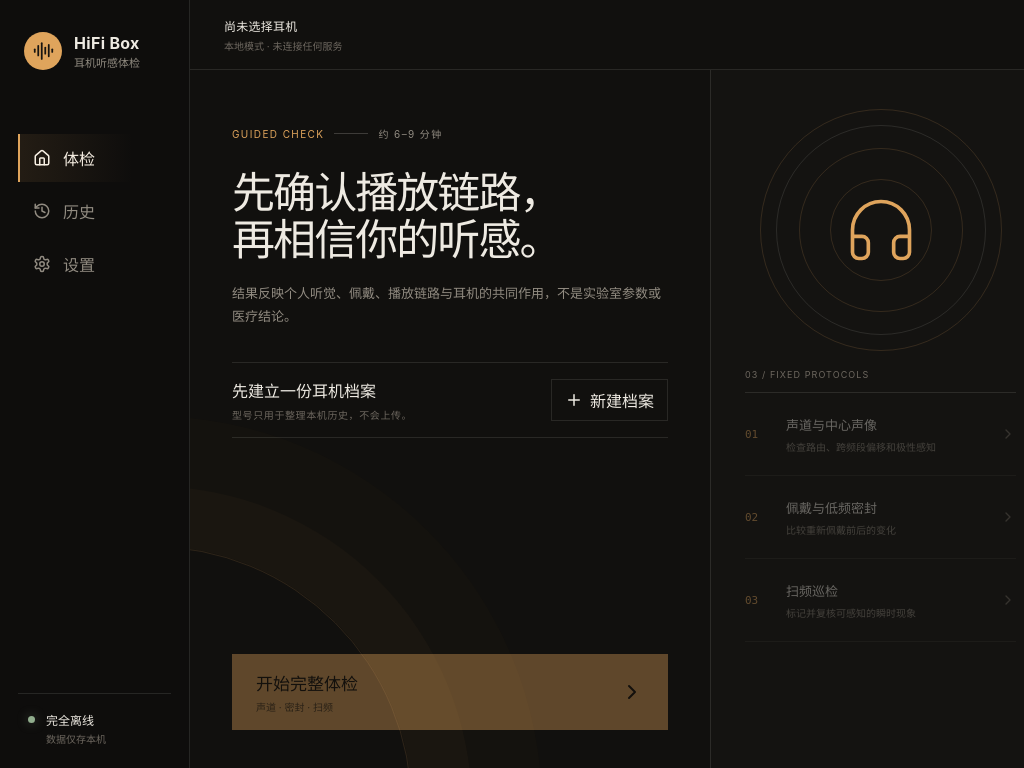
HiFi Box desktop flow › documents the no-network and no-measurement limits
What coordinates should you click on to do the following:
click the button "设置"
I would click on:
 (94, 264)
Its box is [18, 240, 171, 288].
(page scrolled)
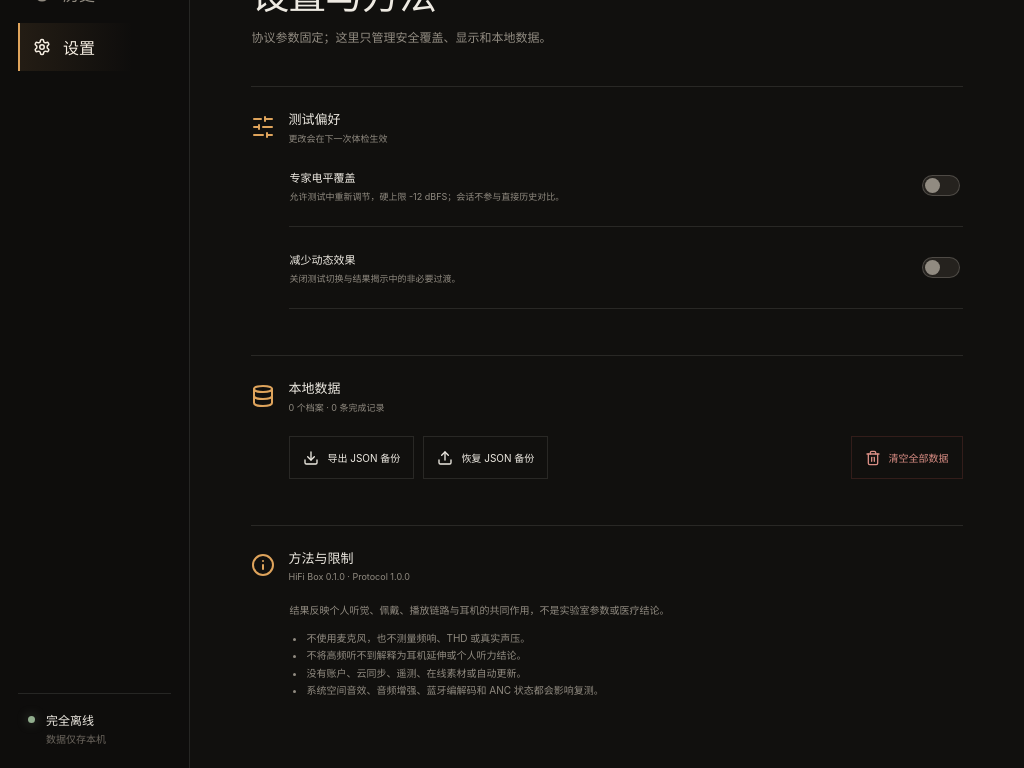
Expected: the list item "不使用麦克风，也不测量频响、THD 或真实声压。" is shown, [306, 632, 530, 644]
Expected: the list item "没有账户、云同步、遥测、在线素材或自动更新。" is shown, [306, 667, 526, 679]
